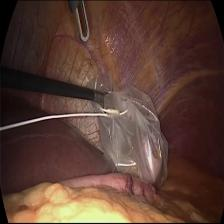Grasper: (63, 0, 93, 44), (86, 89, 114, 106)
Specimen Bag: (86, 72, 170, 194)
